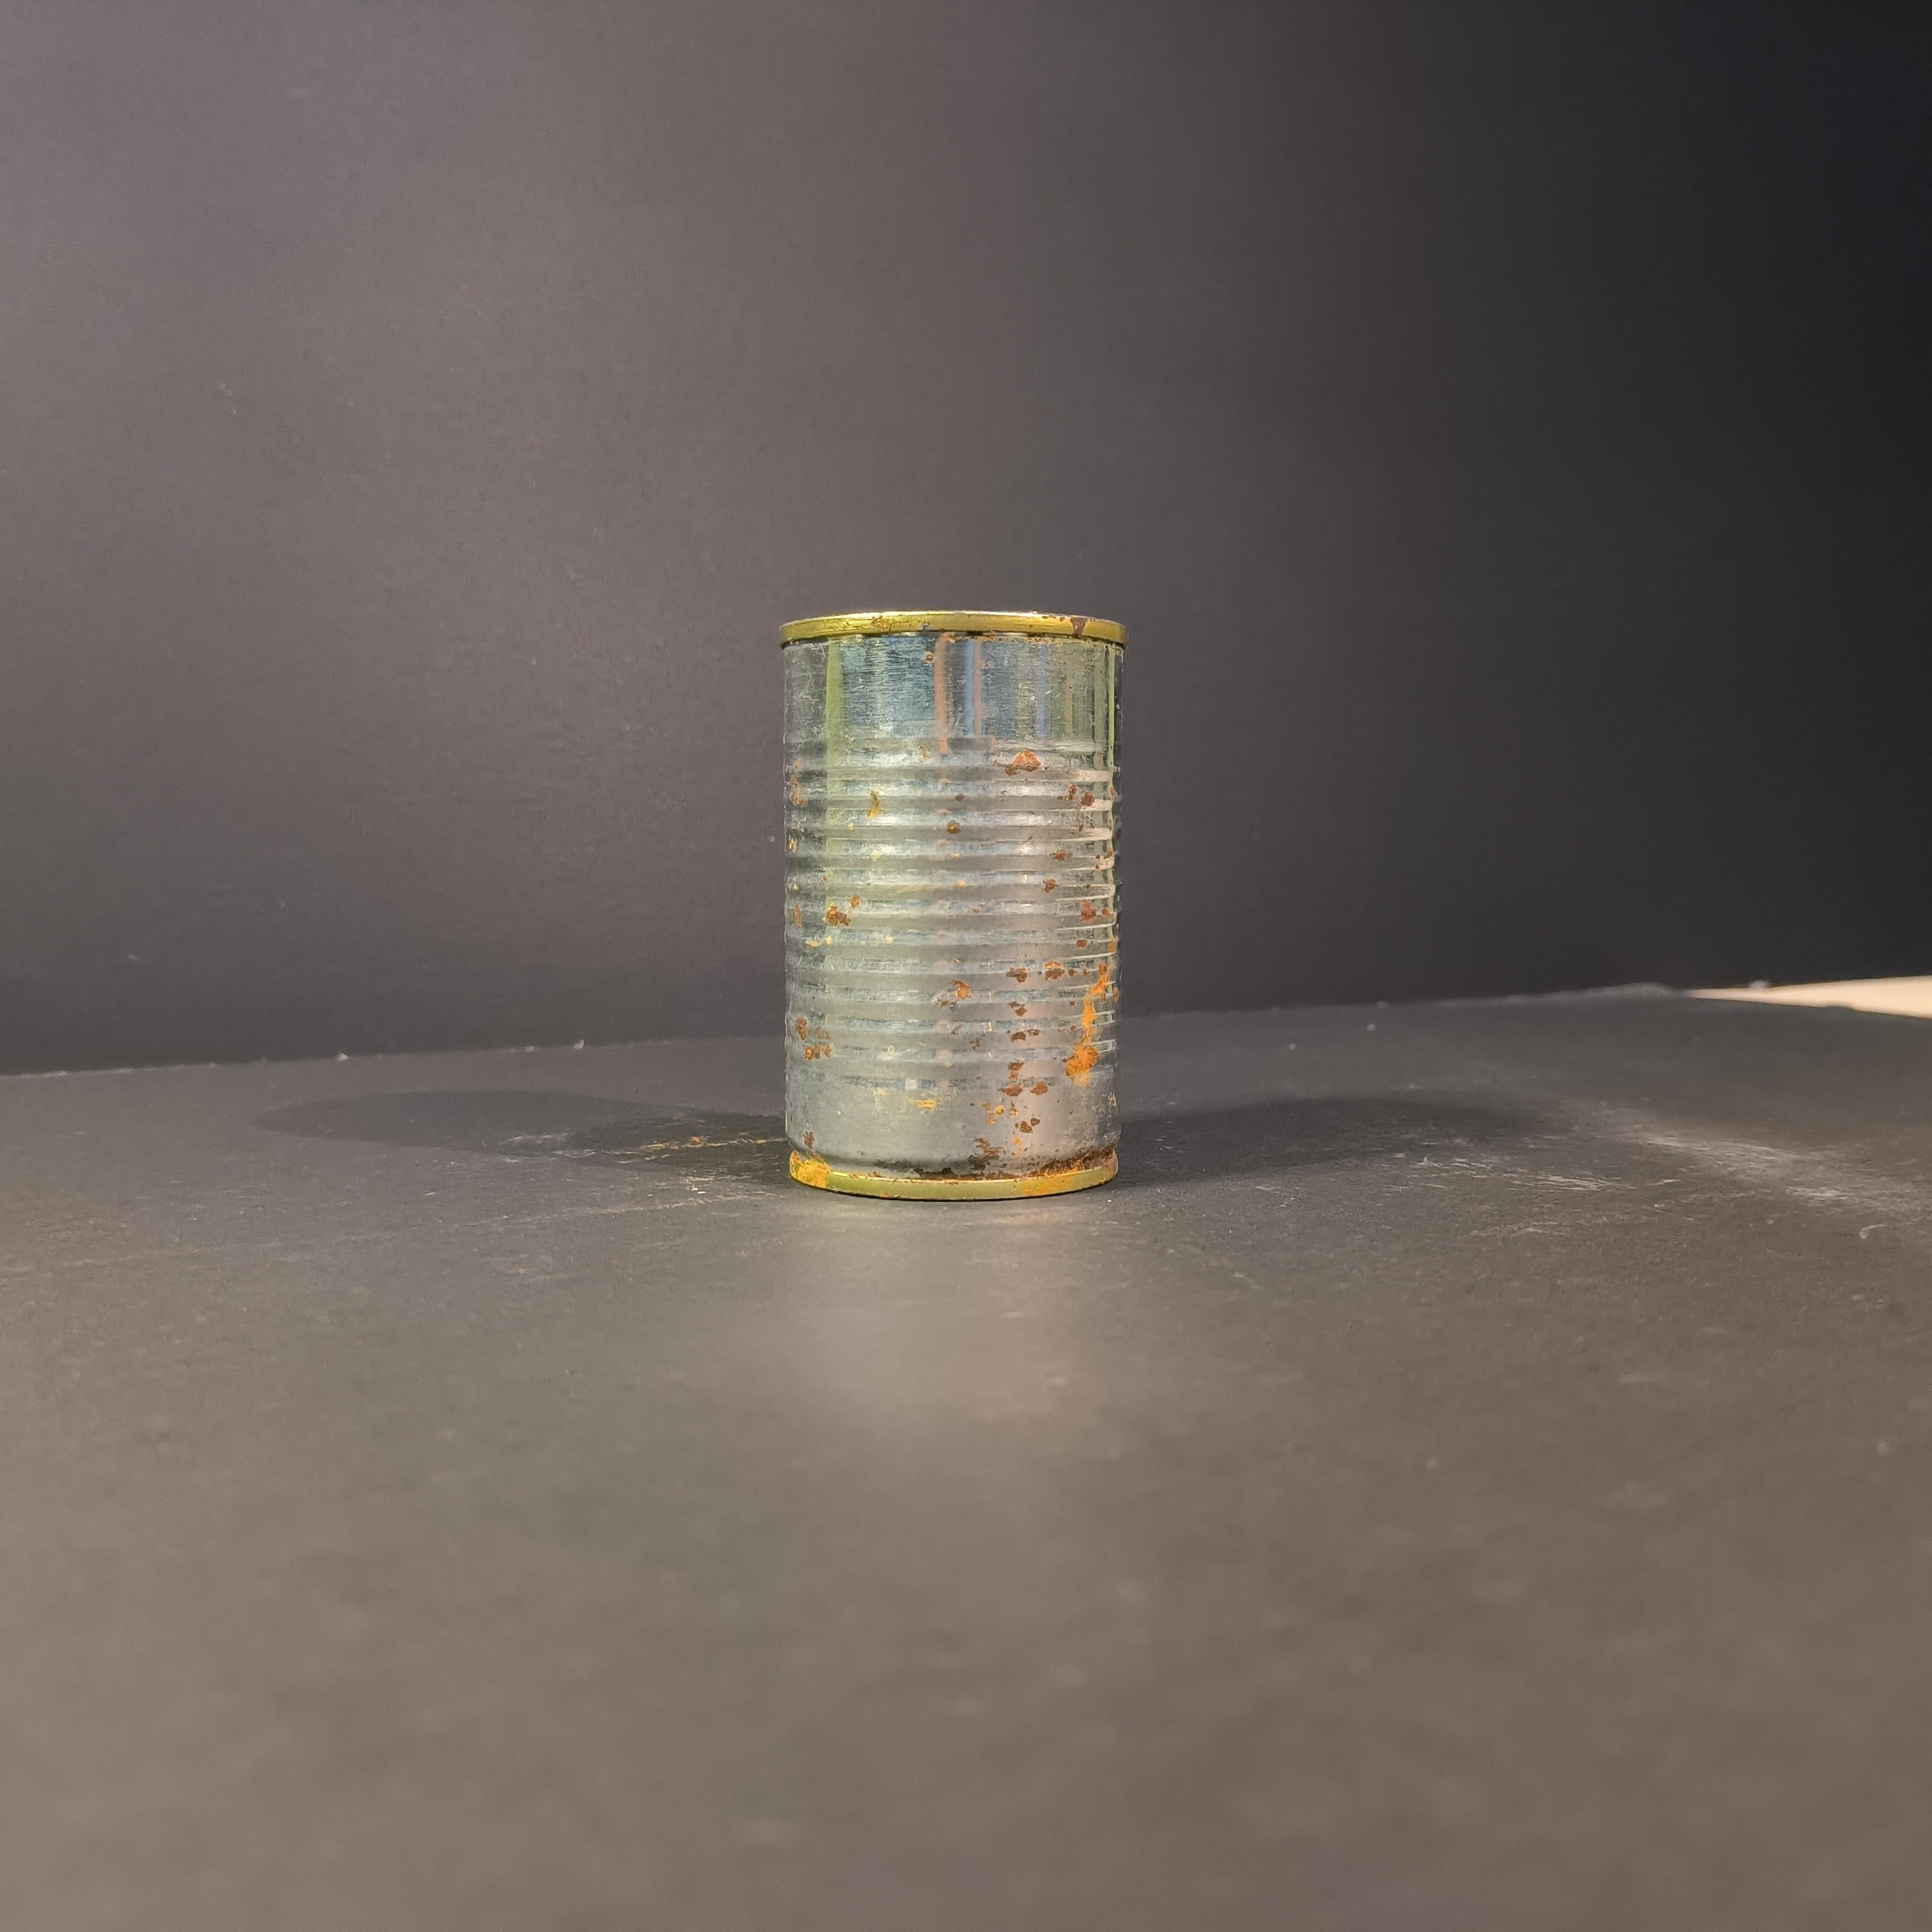Rusted: (764, 596, 1143, 1207)
